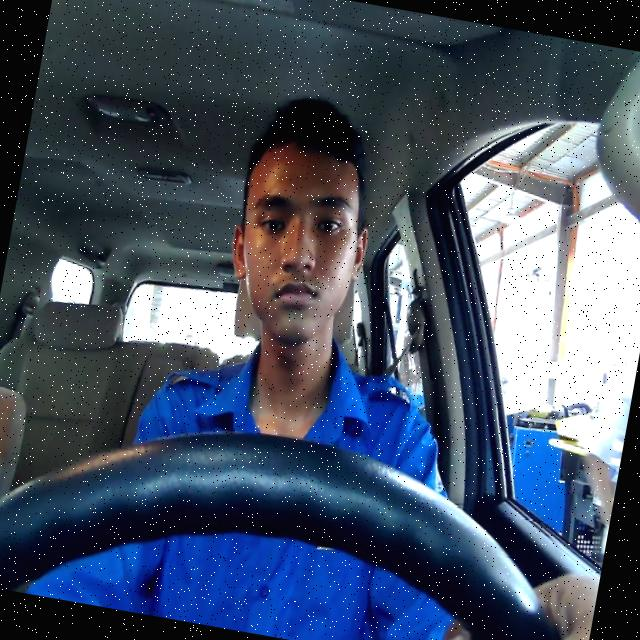focused: (216, 140, 380, 348)
